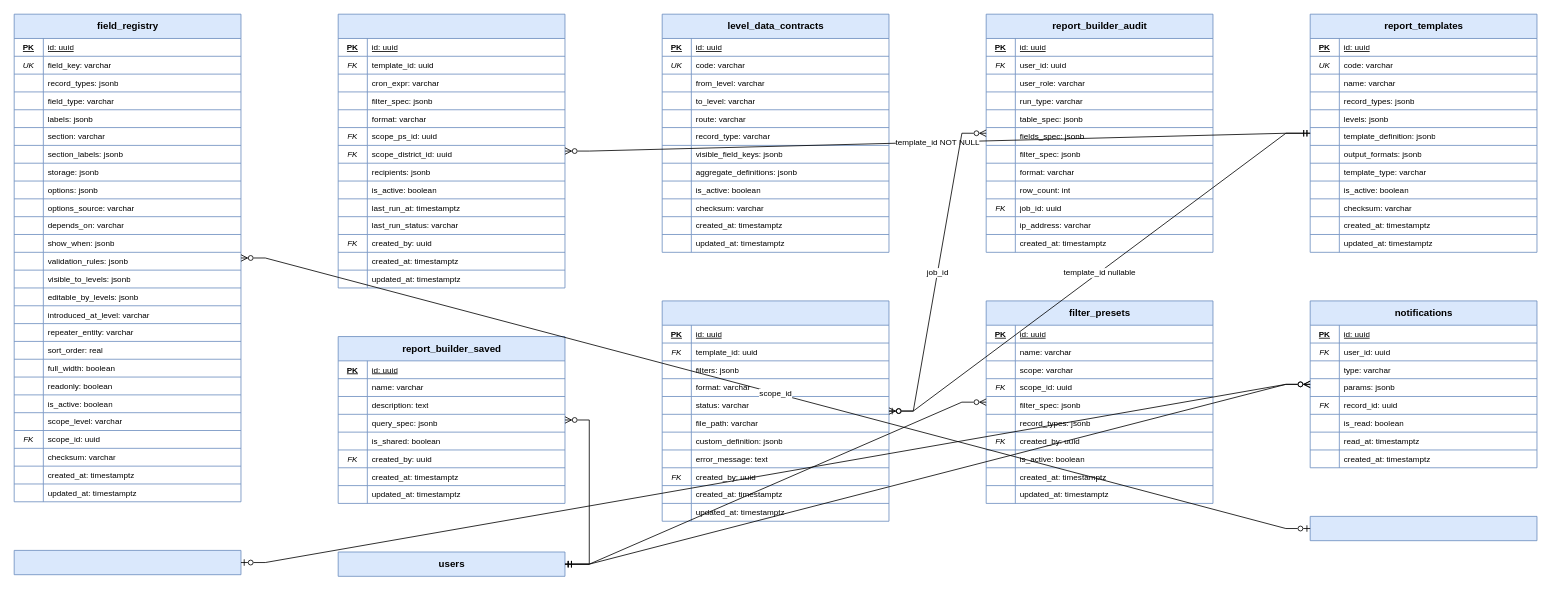
The diagram is 1551 pixels wide and 590 high, and some of its shapes have lost their labels. Here are the shapes that lost their labels. From the top down, the box of each, then its label:
(337, 13, 565, 288): scheduled_reports
(661, 300, 889, 521): report_jobs
(1309, 516, 1537, 541): hierarchy_nodes
(13, 550, 241, 575): records
